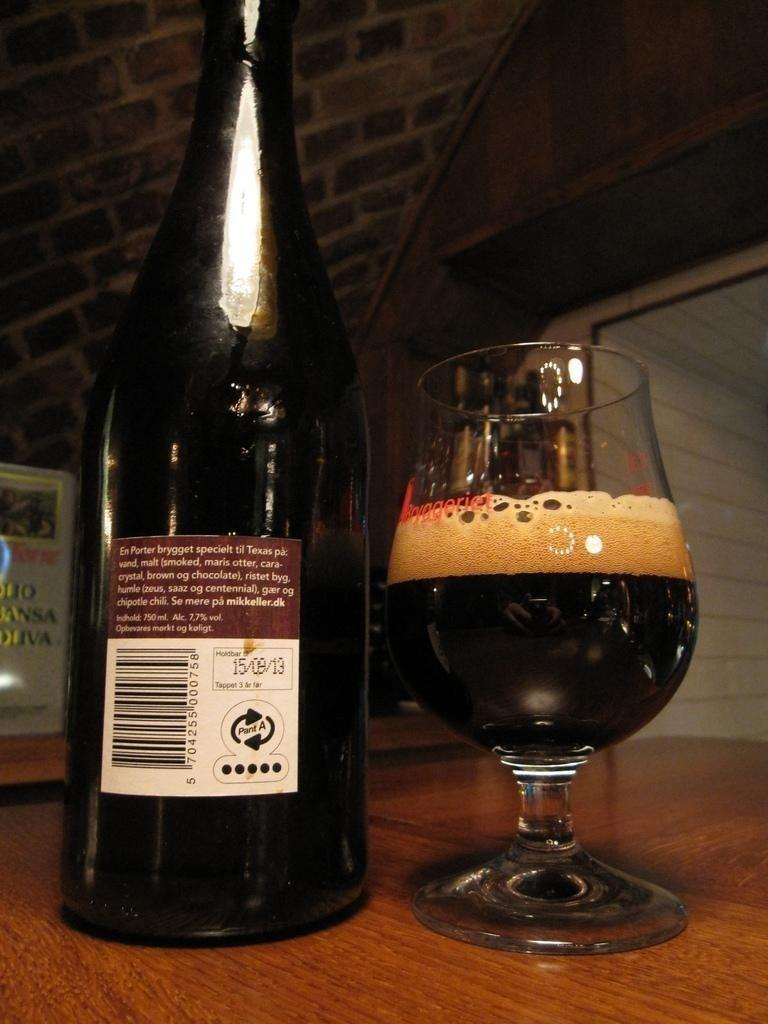bottle-glass: (54, 1, 379, 944)
glass-wine: (387, 340, 702, 955)
